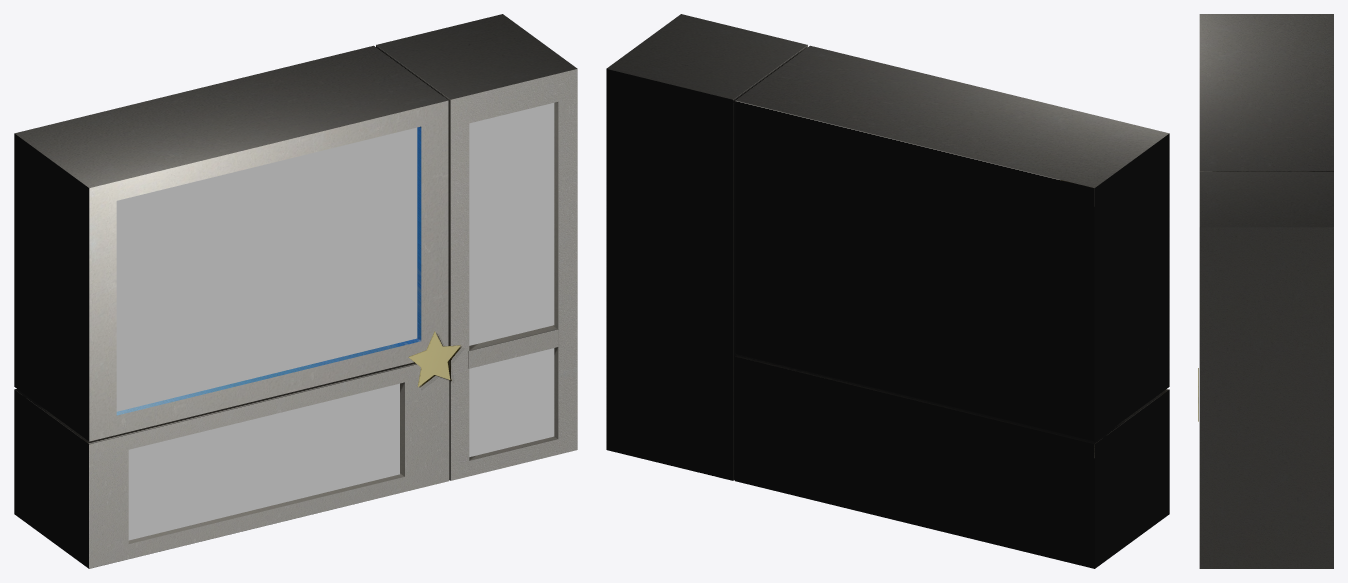
The model's file is computer.glb.
3 renders of one model, left to right at view 1: azimuth 30°, elevation 25°; view 2: azimuth 150°, elevation 25°; view 3: azimuth 270°, elevation 25°, orthographic. The views are drawn at different scales.
Visible parts, largest first — view 1: monitor, MonitorBounds, tower, bottompanel, mediacenter, innerchat, emotionhud, Star; view 2: monitor, tower, bottompanel; view 3: tower, monitor.
Boxes of the visible parts, x1,y1,x2,y2 form: monitor: (14, 45, 448, 441); MonitorBounds: (116, 127, 417, 411); tower: (376, 14, 577, 480); bottompanel: (14, 360, 449, 568); mediacenter: (128, 383, 399, 540); innerchat: (469, 103, 554, 345); emotionhud: (469, 348, 554, 456); Star: (408, 331, 460, 386); monitor: (735, 45, 1169, 441); tower: (606, 14, 807, 480); bottompanel: (734, 354, 1169, 568); tower: (1199, 172, 1333, 568); monitor: (1199, 14, 1333, 171).
Size of the model in its own units: 1.04 by 0.7762 by 0.28.
5 materials, 5 textured.
